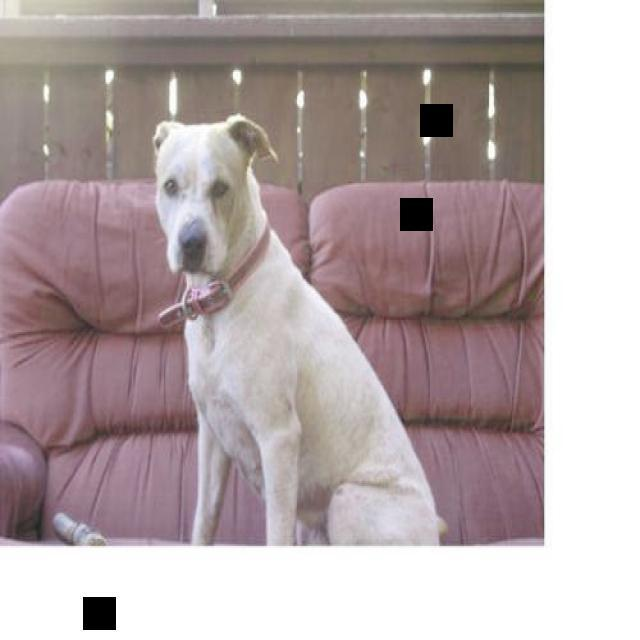adult_dog: (156, 112, 451, 545)
